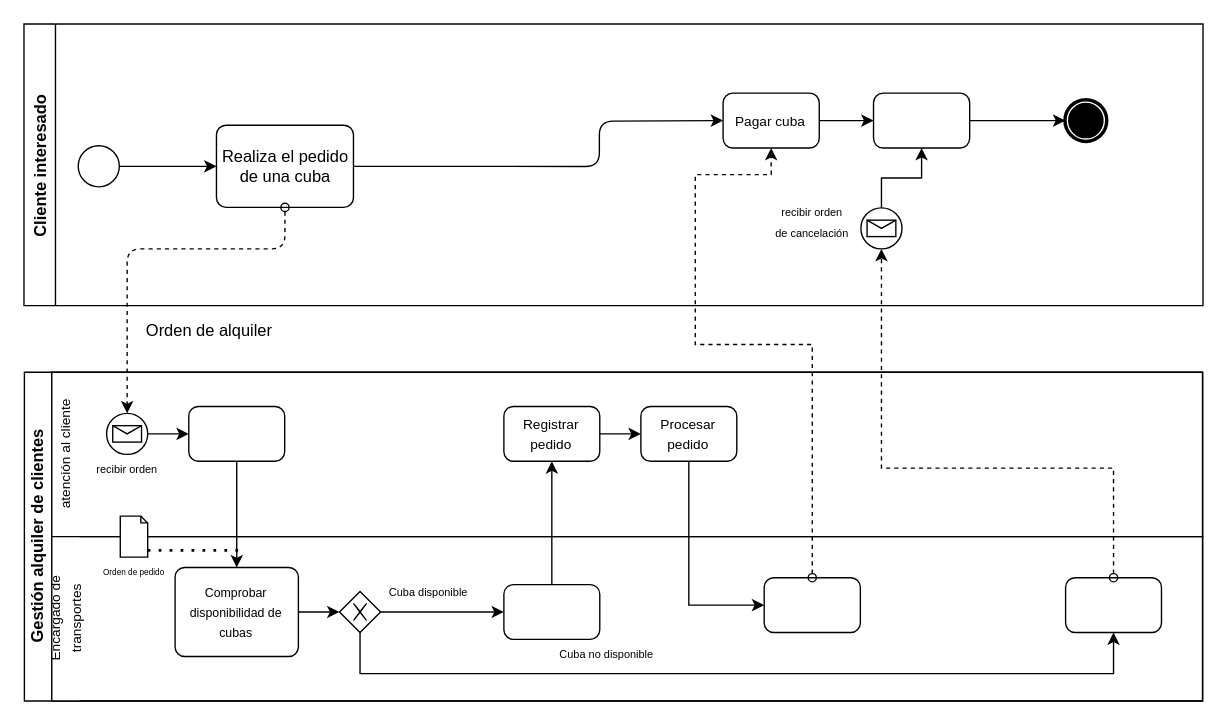
This 1228x726 diagram has some shape labels left out. Here are the shapes that lost their labels. From the top down, the centre of each, then its label:
point (921, 120): Finalizar pedido
point (236, 433): lanzar orden
point (551, 611): Preparar traslado
point (811, 604): Trasladar cuba
point (1112, 604): Cancelar alquiler
